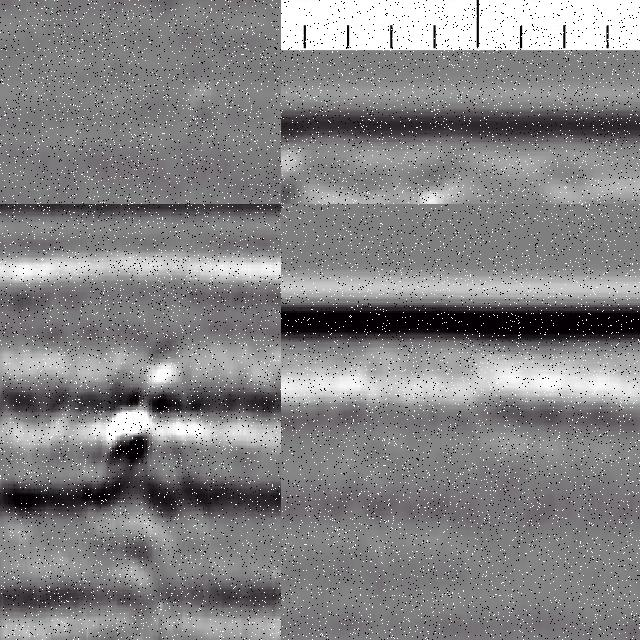loose: (1, 335, 202, 524)
